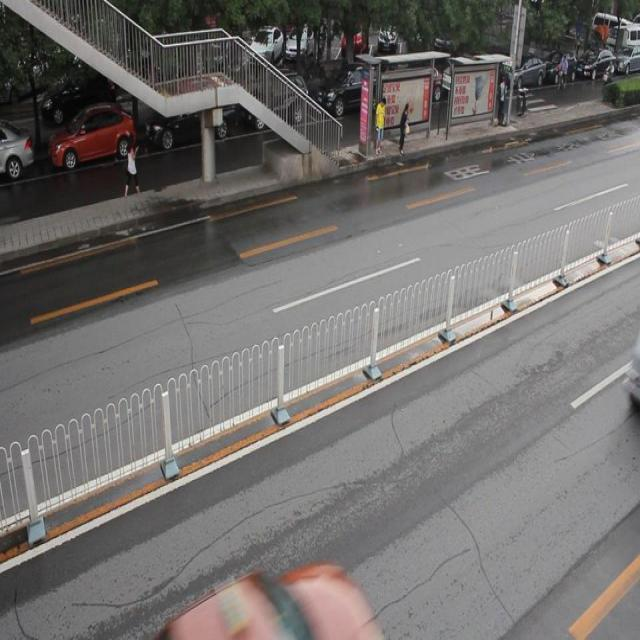car: (48, 106, 136, 173), (143, 92, 235, 144), (315, 61, 391, 119), (240, 72, 309, 132), (1, 124, 37, 182)
